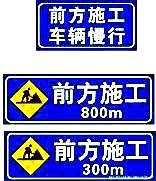sign: (4, 74, 153, 124), (5, 132, 154, 179), (36, 1, 135, 49)
